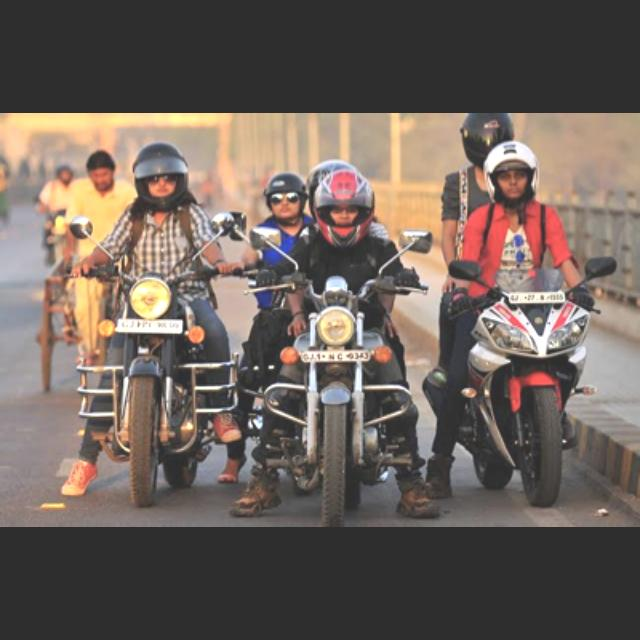With Helmet: (306, 169, 378, 247), (125, 137, 197, 211), (476, 136, 542, 214)
